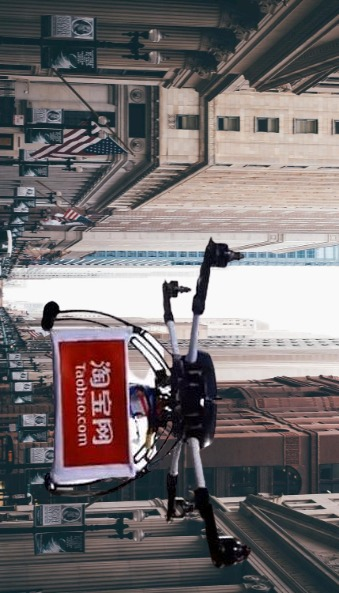drone: (41, 236, 251, 568)
